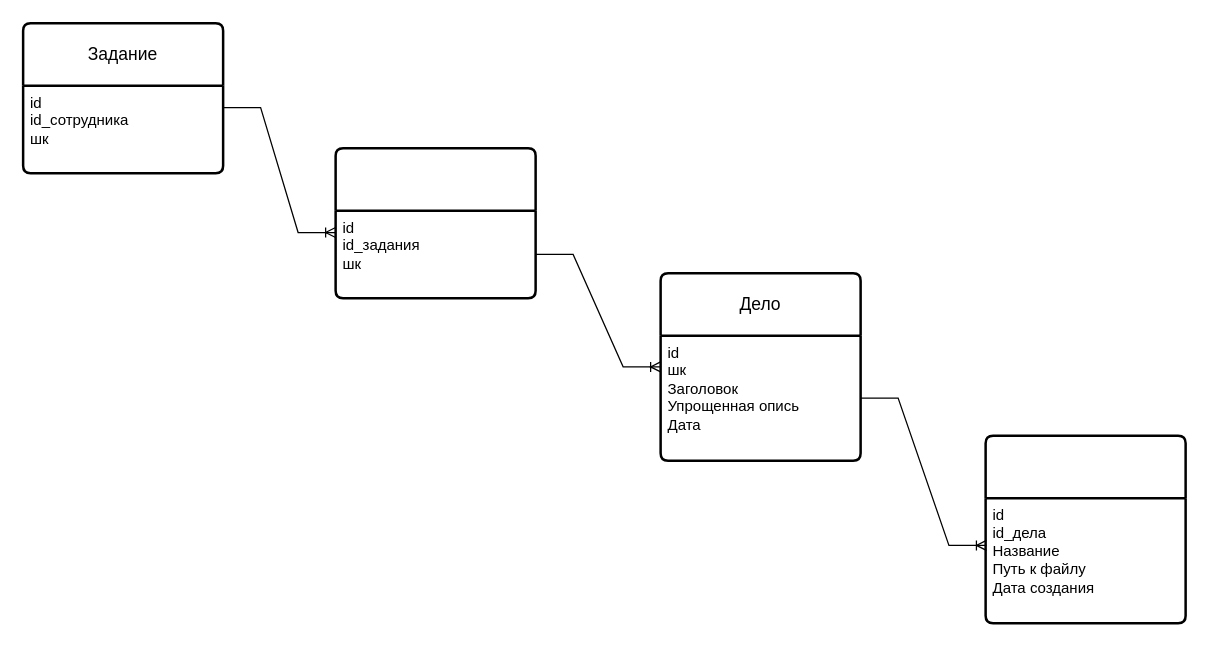
The diagram is 1208 pixels wide and 645 high, and some of its shapes have lost their labels. The shapes that lost their labels are listed below. From the top down, each one's box as (x1, y1, x2, y2) in pixels, then its label:
(334, 146, 536, 299): Короб
(984, 434, 1186, 624): Фото
